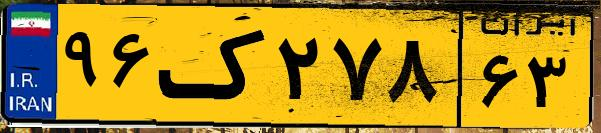2: (270, 28, 330, 110)
3: (525, 38, 570, 115)
6: (475, 38, 525, 113), (110, 28, 158, 98)
7: (330, 28, 385, 110)
8: (385, 28, 445, 110)
9: (57, 26, 110, 100)
ک: (158, 12, 270, 120)
